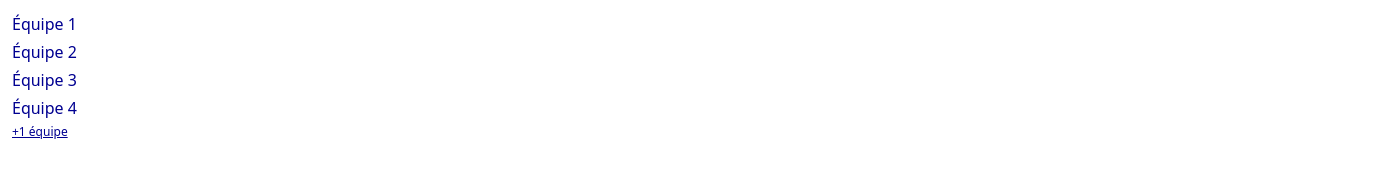
Test case: getUsersColumns › teams column › should expand and collapse teams on click
expect the text "Équipe 5" is not shown: met
Click the button "+1 équipe" at (40, 132), box [12,124,1378,140]
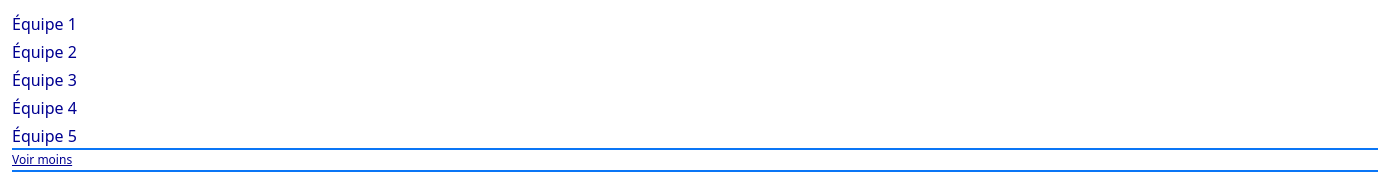
expect the link "Équipe 5" is shown: met, box [12,124,77,148]
expect the button "Voir moins" is shown: met
Click the button "Voir moins" at (42, 160), box [12,152,1378,168]
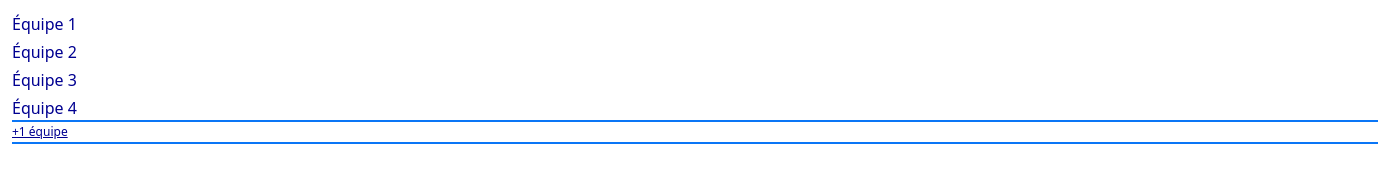
expect the link "Équipe 5" is gone: met
